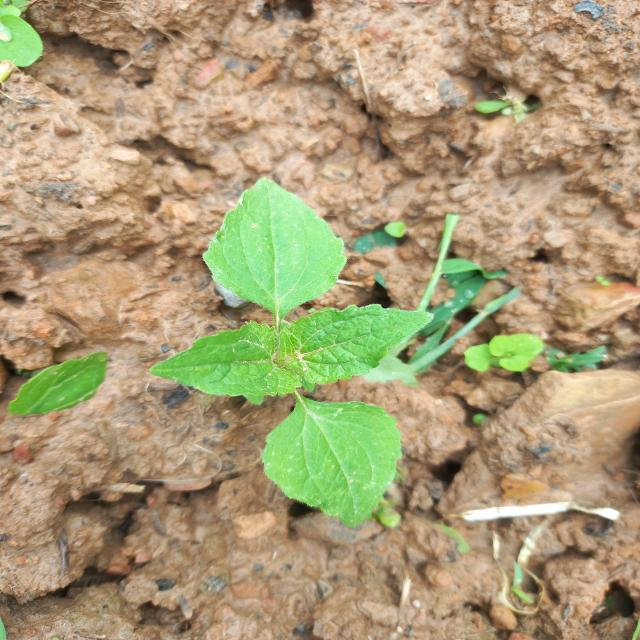weed: (132, 166, 438, 518), (458, 323, 554, 383)
